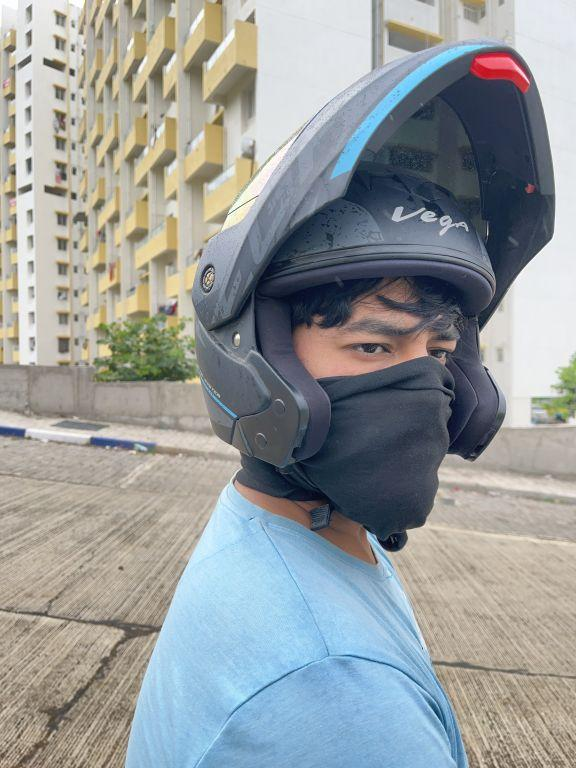helmet: (182, 35, 562, 557)
